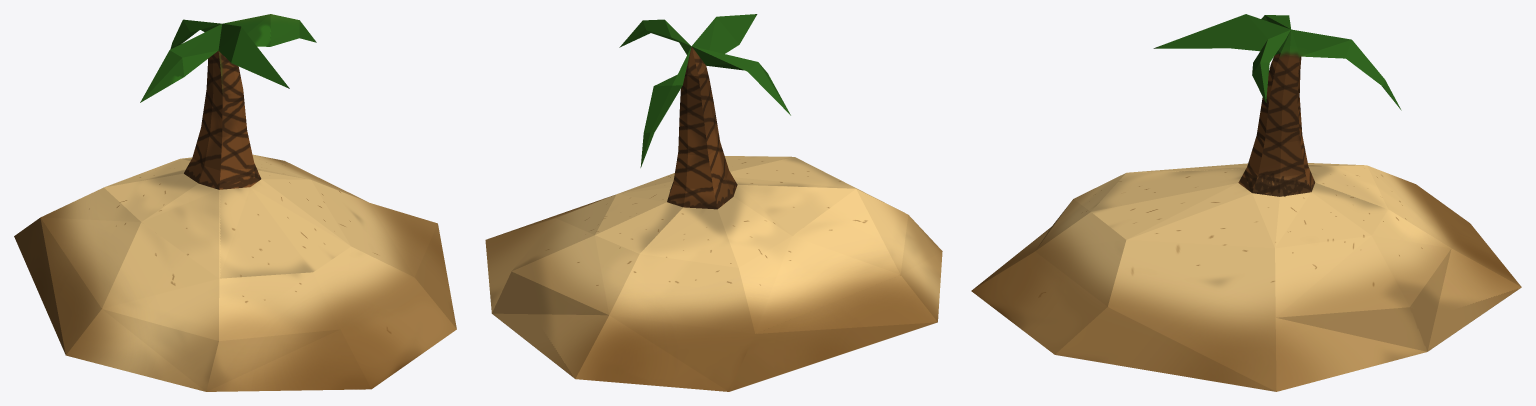
File: island.dae
3 renders of one model, left to right at view 1: azimuth 30°, elevation 25°; view 2: azimuth 150°, elevation 25°; view 3: azimuth 270°, elevation 25°, orthographic. The views are drawn at different scales.
Parts seen in each view (by area): view 1: Cube; view 2: Cube; view 3: Cube.
Boxes of the visible parts, box(x1,y1,x2,y2) form: Cube: box(14, 14, 456, 391); Cube: box(485, 14, 942, 391); Cube: box(971, 14, 1521, 391).
Bounding box in the file's own units: 11.76 × 13.19 × 7.34.
Materials: 1 (1 with a texture image).
